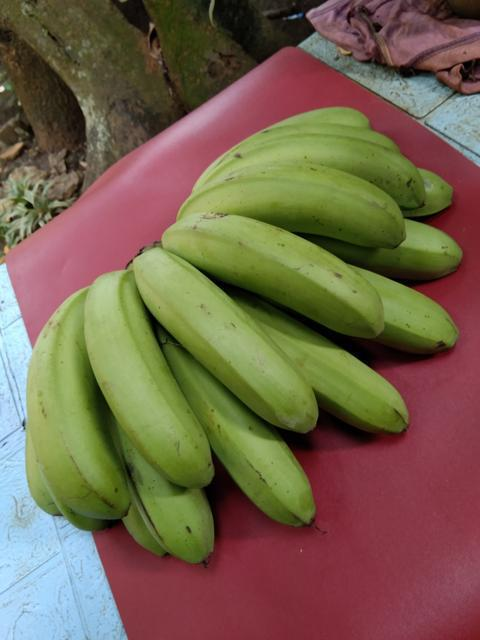freshunripe: (129, 241, 334, 437), (75, 261, 222, 482), (19, 275, 112, 526), (178, 157, 414, 254), (199, 388, 339, 534), (272, 327, 422, 440)
unripe: (155, 208, 373, 341), (108, 447, 225, 572)
